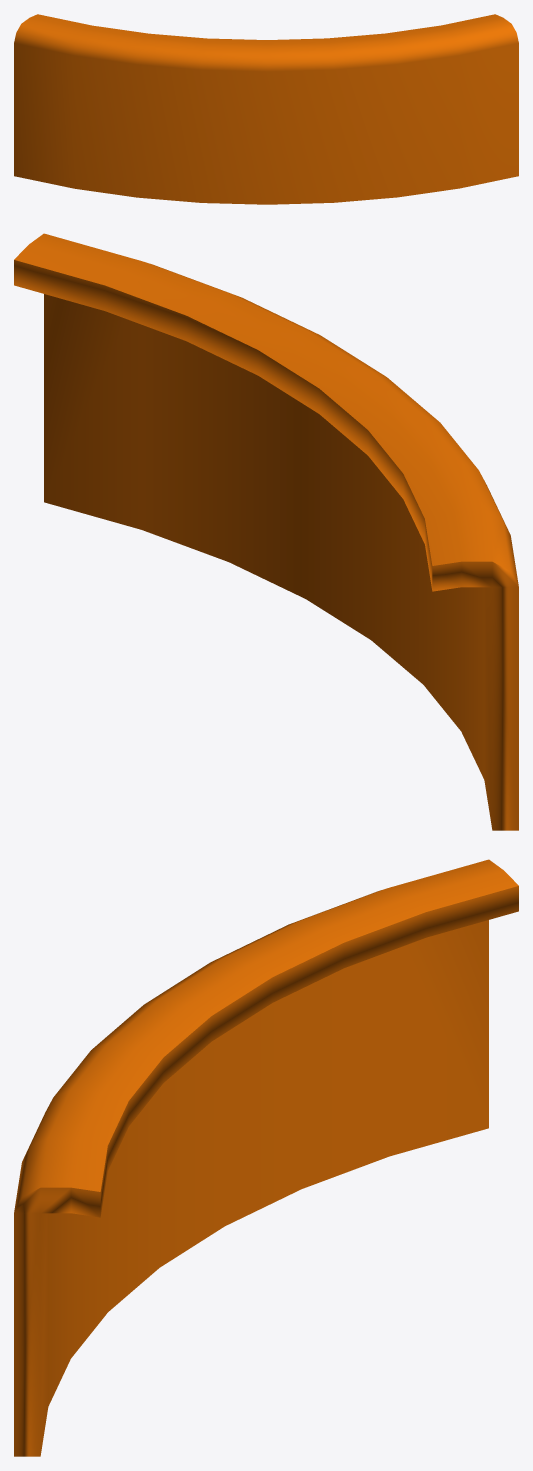
The model's file is Plastic_Pipe_C_Right.fbx.
3 views of the same model, one above another, from view 1: azimuth 30°, elevation 25°; view 2: azimuth 150°, elevation 25°; view 3: azimuth 270°, elevation 25° (orthographic). The views are drawn at different scales.
Visible parts, largest first — view 1: Plastic_Pipe_C_Right; view 2: Plastic_Pipe_C_Right; view 3: Plastic_Pipe_C_Right.
Part boxes in pixels (box(x1,y1,x2,y2)): Plastic_Pipe_C_Right: box(14, 14, 518, 204); Plastic_Pipe_C_Right: box(14, 233, 518, 830); Plastic_Pipe_C_Right: box(14, 859, 518, 1456).
Size of the model in its own units: 6.65 by 2.47 by 4.2.
